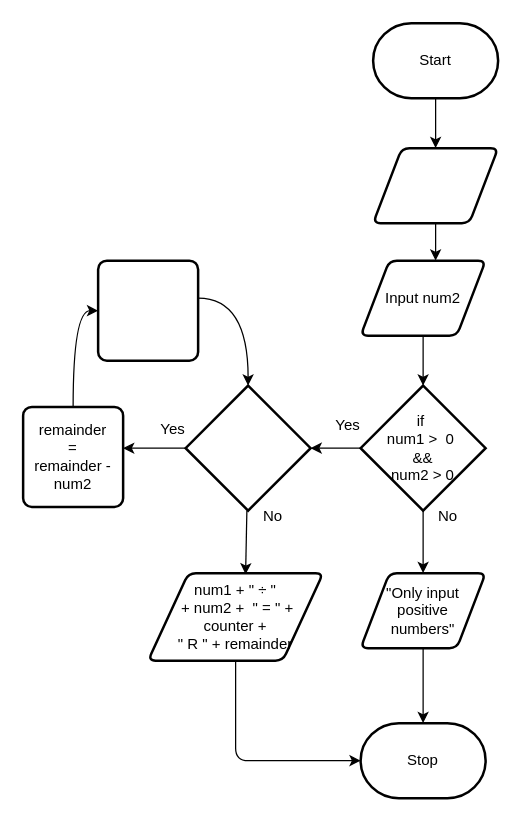
Some shapes in this 520 by 820 pixel diagram are drawn without their labels. The shapes that lost their labels are listed below. From the top down, each one's centre as x and y in pixels, then its label:
At [435,185]: "Input num1".
At [147,310]: "counter++".
At [247,447]: "while remainder + 1 > num2".
